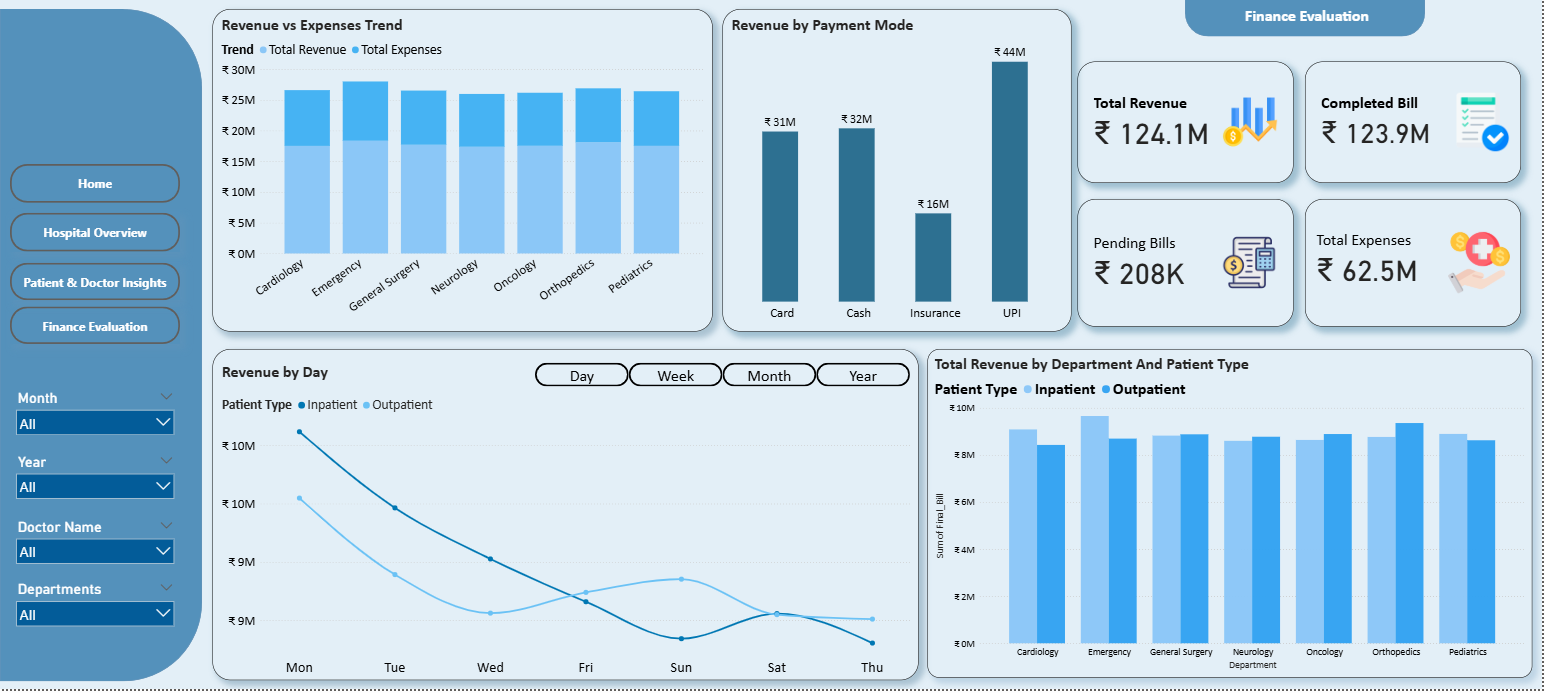

This screenshot's page, from the dashboard's own definition file:
{"tool":"powerbi","page":{"name":"Finance Evaluation","canvas":[2570,1150],"ordinal":3},"visuals":[{"type":"shape","box":[0,16.3,336.7,1120.4],"z":0},{"type":"slicer","fields":{"Values":["Date_Table.Month"]},"box":[16.3,644.9,283.7,87.8],"z":1000},{"type":"slicer","fields":{"Values":["Date_Table.Year"]},"box":[16.3,753.1,283.7,87.8],"z":2000},{"type":"shape","box":[1975,0,400,62.5],"z":3000},{"type":"slicer","fields":{"Values":["Doctor_Table.Dr_Name"]},"box":[16.3,861.2,283.7,87.8],"z":4000},{"type":"slicer","fields":{"Values":["Doctor_Table.Dr_Department"]},"box":[16.3,965.3,283.7,87.8],"z":5000},{"type":"actionButton","box":[16.7,356.2,283.3,64.6],"z":6000},{"type":"actionButton","box":[16.7,439.6,283.3,62.5],"z":7000},{"type":"actionButton","box":[16.7,275,283.3,64.6],"z":8000},{"type":"actionButton","box":[16.7,512.5,283.3,62.5],"z":10000},{"type":"textbox","box":[2002.1,6.2,352.1,50],"z":11000},{"type":"shape","box":[354.2,583.3,1177.1,552.1],"z":12000},{"type":"clusteredColumnChart","title":"Total Revenue by Year","fields":{"Category":["Date_Table.Year"],"Series":["Patient_Table.Patient_type"],"Y":["Sum(Billing_Table.Final_Bill)"]},"box":[364.6,645.8,1158.3,477.1],"z":16000},{"type":"actionButton","box":[891.7,606.2,156.2,39.6],"z":17000},{"type":"actionButton","box":[1047.9,606.2,156.2,39.6],"z":18000},{"type":"actionButton","box":[1204.2,606.2,156.2,39.6],"z":19000},{"type":"actionButton","box":[1360,606.2,156.2,39.6],"z":20000},{"type":"cardVisual","title":"Total Revenue","fields":{"Data":["Billing_Table.Total Revenue"]},"box":[1795,105,360,202.5],"z":21000},{"type":"cardVisual","title":"Total Revenue","fields":{"Data":["Billing_Table.Patient Economic"]},"box":[1795,332.5,360,212.5],"z":22000},{"type":"cardVisual","title":"Total Revenue","fields":{"Data":["Billing_Table.Total Expenses"]},"box":[2175,332.5,360,212.5],"z":23000},{"type":"clusteredColumnChart","title":"Revenue by Payment Mode","fields":{"Category":["Billing_Table.Payment_Mode"],"Y":["Billing_Table.Total Revenue"]},"box":[1204.2,16.7,581.2,537.5],"z":24000},{"type":"cardVisual","title":"Total Revenue","fields":{"Data":["Billing_Table.Completed Bill"]},"box":[2175,105,360,202.5],"z":25000},{"type":"lineStackedColumnComboChart","title":"Revenue vs Expenses Trend","fields":{"Category":["Doctor_Table.Dr_Department"],"Y":["Billing_Table.Total Revenue","Billing_Table.Total Expenses"]},"box":[354.2,16.7,833.3,537.5],"z":26000},{"type":"textbox","title":"Year","box":[365,596.7,262.5,52.5],"z":30000},{"type":"clusteredColumnChart","title":"Total Revenue by Department And Patient Type","fields":{"Category":["Appointment_Table.Department"],"Y":["Sum(Billing_Table.Final_Bill)"],"Series":["Patient_Table.Patient_type"]},"box":[1545.8,583.3,1008.3,547.9],"z":31000}]}

Visuals, with their boxes in screenshot pixels (x1, y1, x2, y2), scaled from the page's 2570x1150 canvas onto the 1545x693 screenshot:
shape: crop(0, 10, 202, 685)
slicer - Date_Table.Month: crop(10, 389, 180, 442)
slicer - Date_Table.Year: crop(10, 454, 180, 507)
shape: crop(1187, 0, 1428, 38)
slicer - Doctor_Table.Dr_Name: crop(10, 519, 180, 572)
slicer - Doctor_Table.Dr_Department: crop(10, 582, 180, 635)
actionButton: crop(10, 215, 180, 254)
actionButton: crop(10, 265, 180, 303)
actionButton: crop(10, 166, 180, 205)
actionButton: crop(10, 309, 180, 346)
textbox: crop(1204, 4, 1415, 34)
shape: crop(213, 352, 921, 684)
"Total Revenue by Year" clusteredColumnChart: crop(219, 389, 916, 677)
actionButton: crop(536, 365, 630, 389)
actionButton: crop(630, 365, 724, 389)
actionButton: crop(724, 365, 818, 389)
actionButton: crop(818, 365, 911, 389)
"Total Revenue" cardVisual: crop(1079, 63, 1296, 185)
"Total Revenue" cardVisual: crop(1079, 200, 1296, 328)
"Total Revenue" cardVisual: crop(1308, 200, 1524, 328)
"Revenue by Payment Mode" clusteredColumnChart: crop(724, 10, 1073, 334)
"Total Revenue" cardVisual: crop(1308, 63, 1524, 185)
"Revenue vs Expenses Trend" lineStackedColumnComboChart: crop(213, 10, 714, 334)
"Year" textbox: crop(219, 360, 377, 391)
"Total Revenue by Department And Patient Type" clusteredColumnChart: crop(929, 352, 1535, 682)
